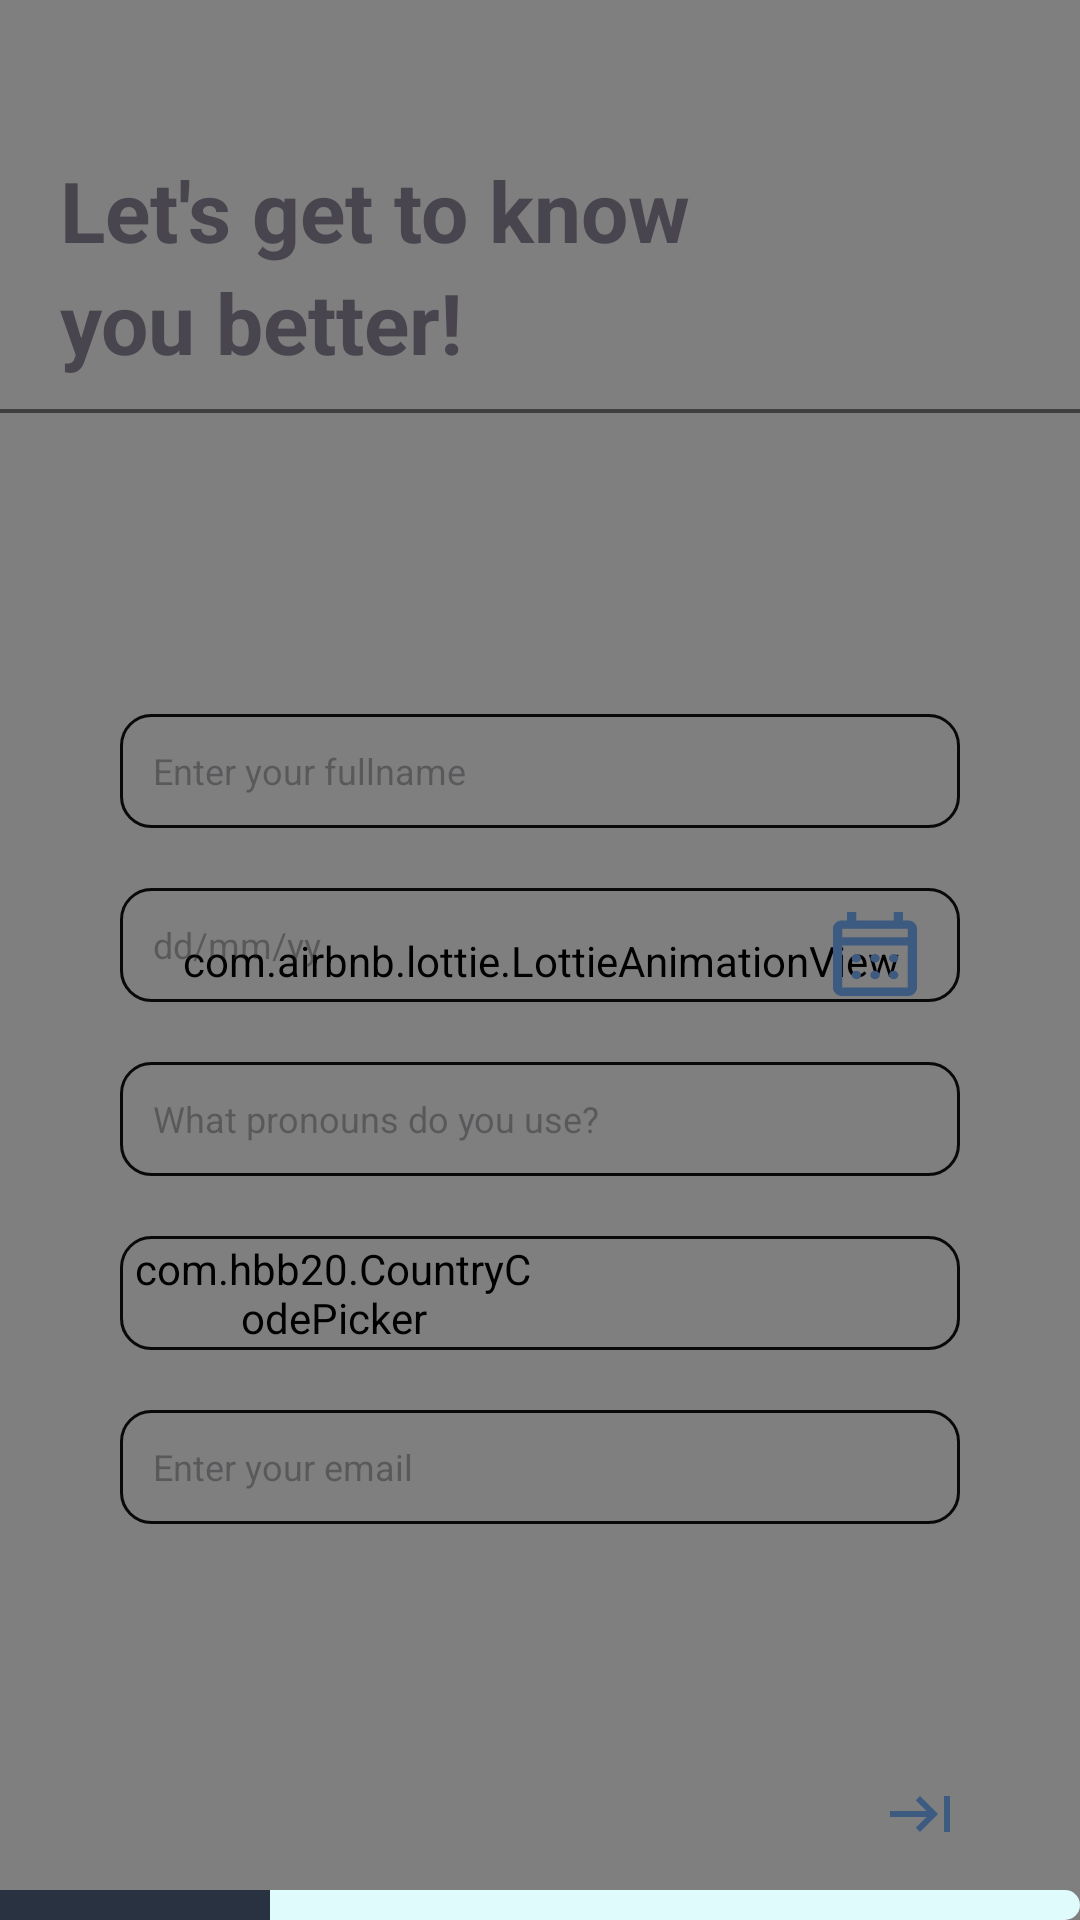

Where icons sit on this 1080 × 1920 app screen, as bbox=(x1, y1, x2, y2):
next arrow right: bbox=(890, 1796, 950, 1832)
